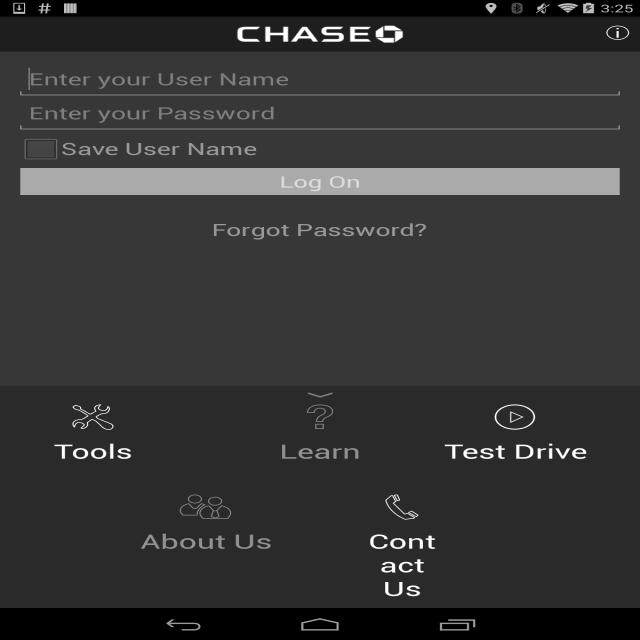Button: (20, 168, 620, 195)
CheckBox: (20, 132, 61, 164)
EditText: (20, 62, 620, 96), (20, 96, 620, 130)
ImageView: (0, 386, 640, 404), (169, 26, 470, 42), (606, 26, 630, 40)
TextView: (133, 491, 280, 554), (361, 491, 444, 602), (444, 401, 586, 464), (280, 401, 360, 464), (212, 218, 428, 241), (54, 401, 132, 464), (61, 137, 258, 160)
